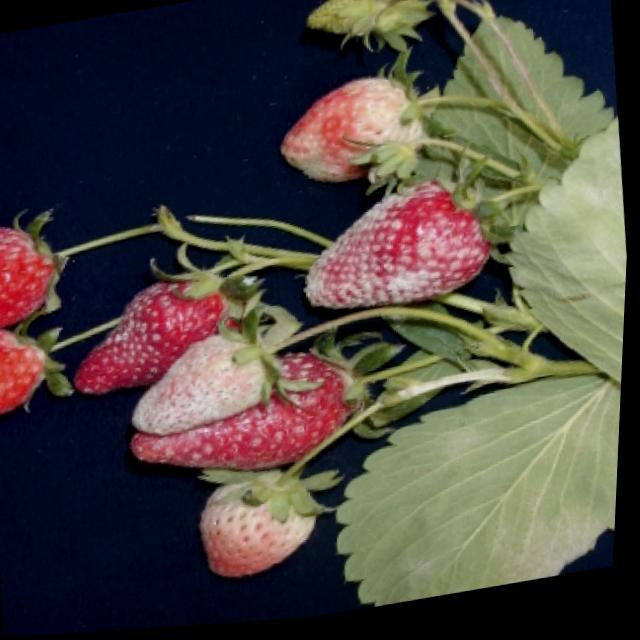Powdery Mildew Fruit: (306, 180, 503, 315), (132, 357, 357, 475), (74, 276, 249, 398), (134, 334, 278, 439), (0, 225, 61, 328), (0, 327, 55, 416)
